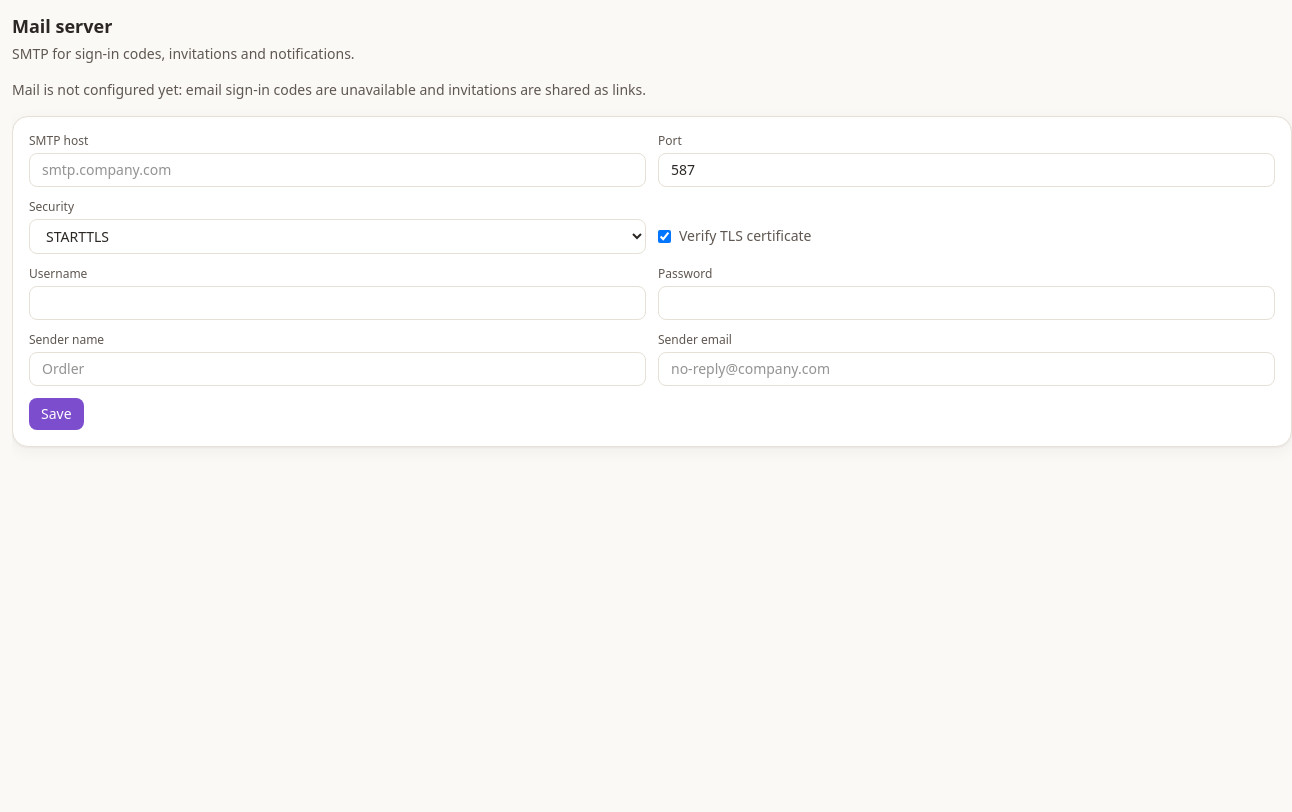
Test case: MailSection › saves SMTP settings entered by the admin
This screenshot has width=1292, height=812.
Expected: the text "Mail is not configured yet" is shown, left=12, top=80, right=646, bottom=99
Type "smtp.push30.test" into the field labelled "SMTP host".
click(338, 170); type("smtp.push30.test")  # box left=29, top=153, right=646, bottom=187
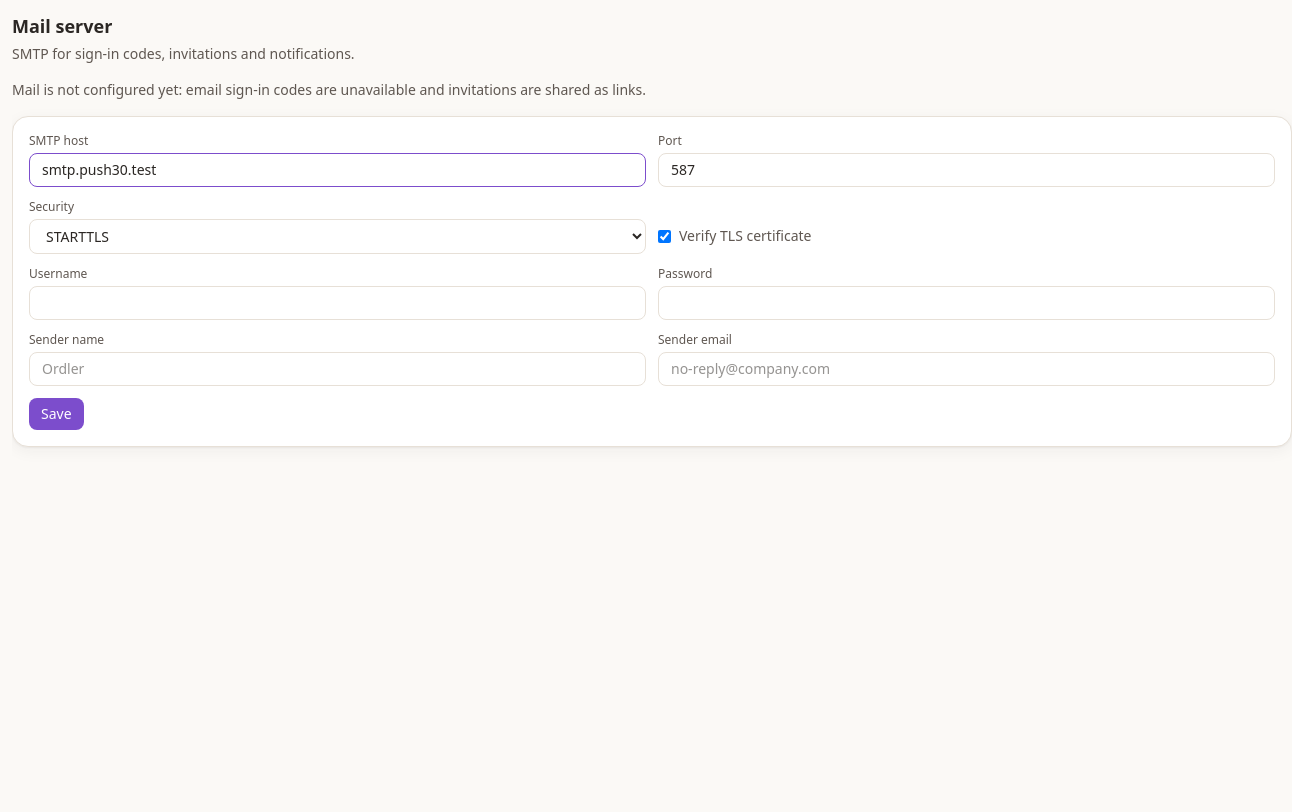
Type "ordler" into the field labelled "Username".
click(338, 303); type("ordler")  # box left=29, top=286, right=646, bottom=320
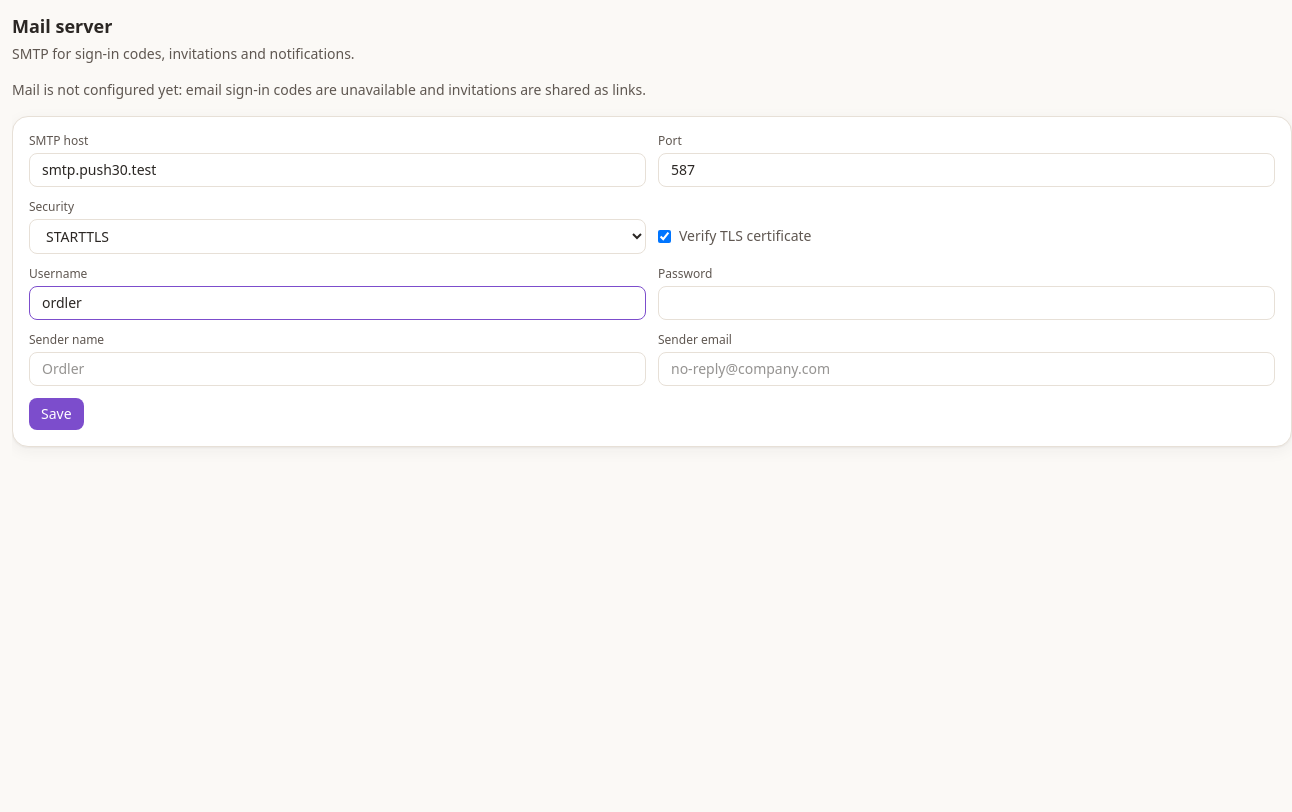
Type "smtp-secret" into the password field labelled "Password".
click(966, 303); type("smtp-secret")  # box left=658, top=286, right=1275, bottom=320
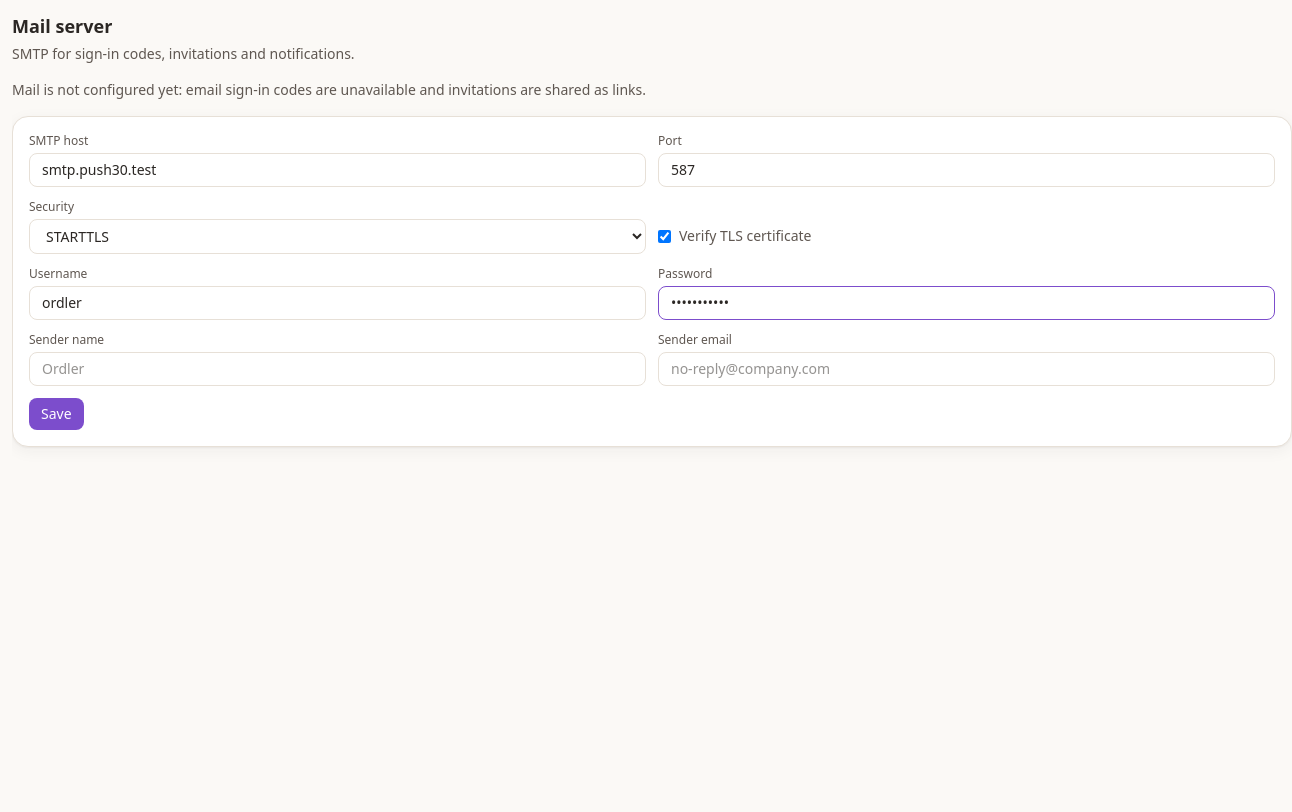
Type "tasks@push30.test" into the field labelled "Sender email".
click(966, 369); type("tasks@push30.test")  # box left=658, top=352, right=1275, bottom=386
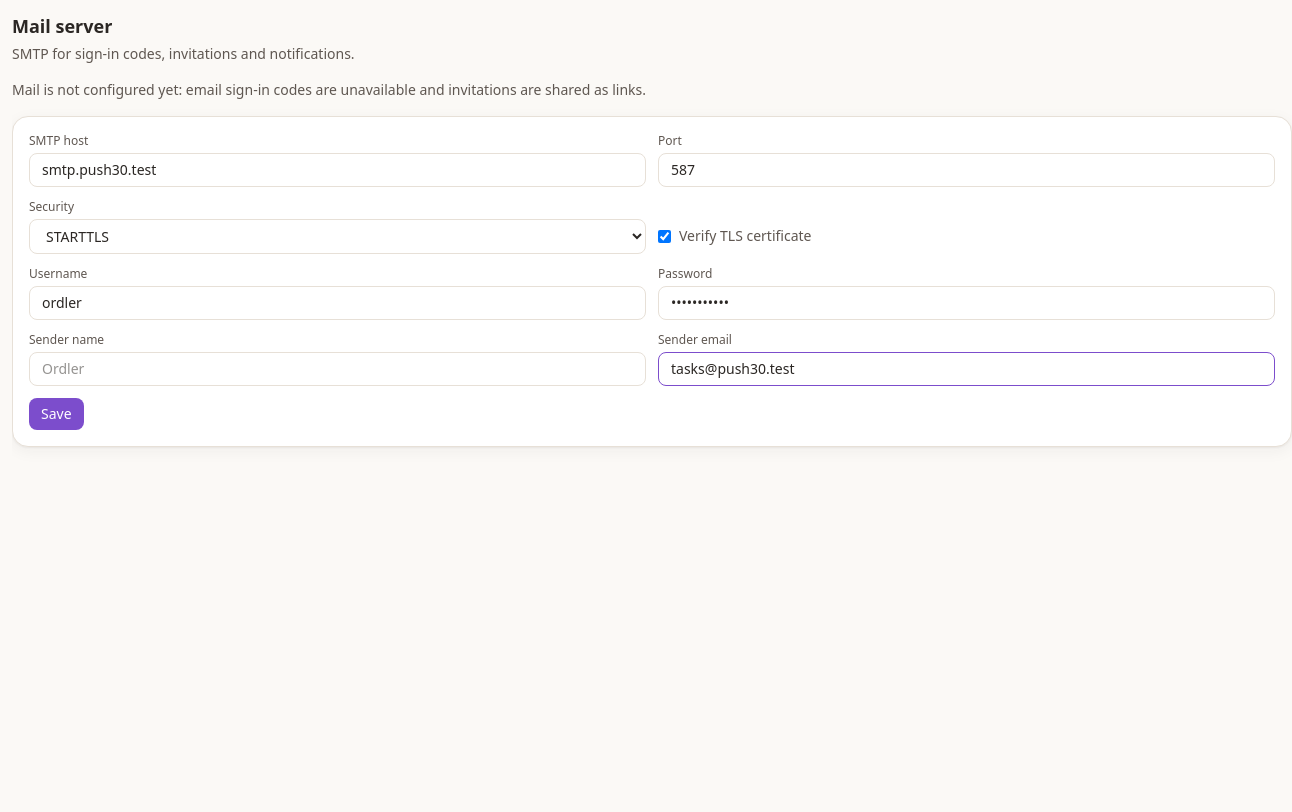
Click the button "Save".
click(56, 414)  # box left=29, top=398, right=84, bottom=430
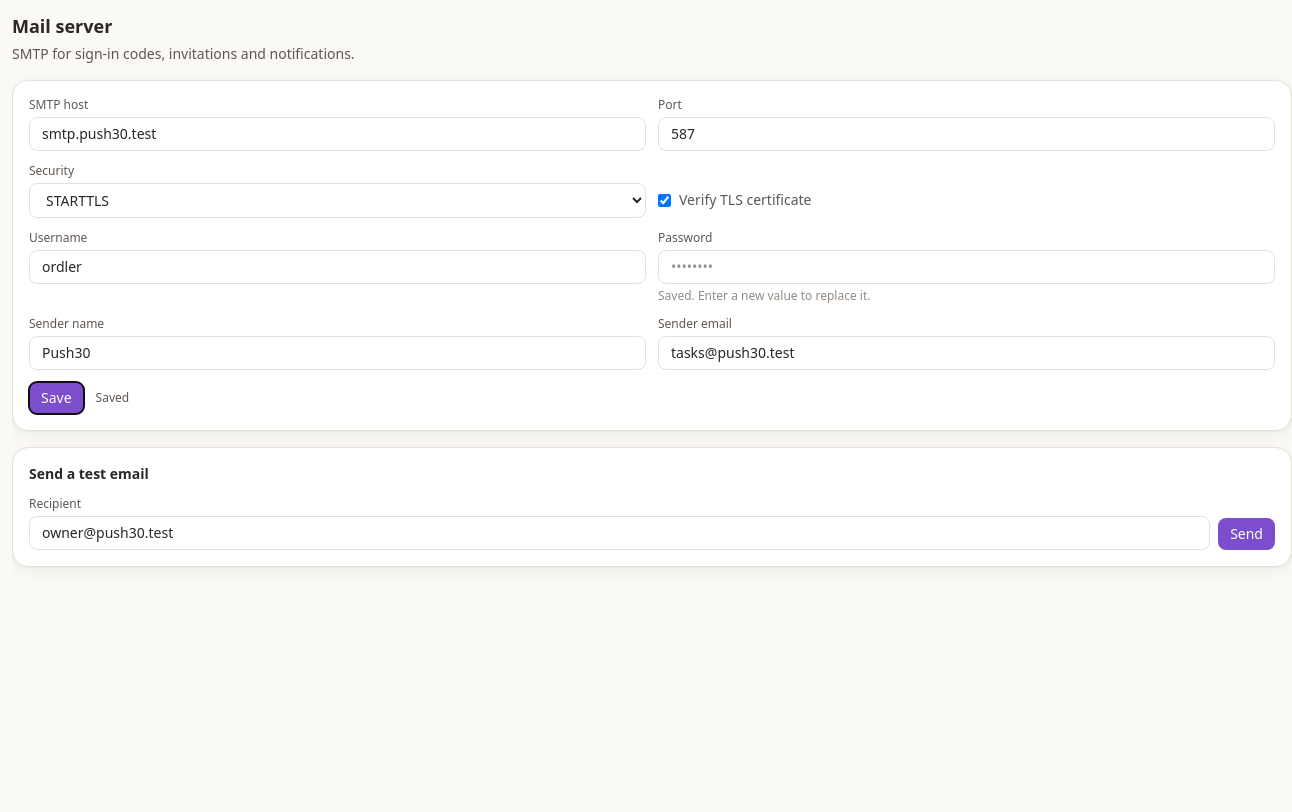
Expected: the message reads "Saved", left=96, top=389, right=129, bottom=406
Expected: the password field labelled "Password" is empty, left=658, top=250, right=1275, bottom=284
